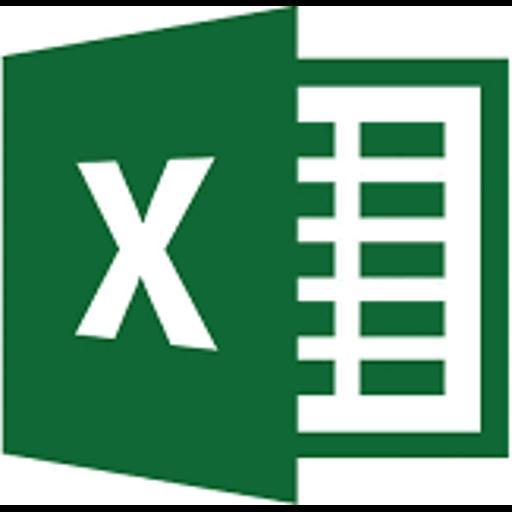Office365: (0, 6, 512, 505)
